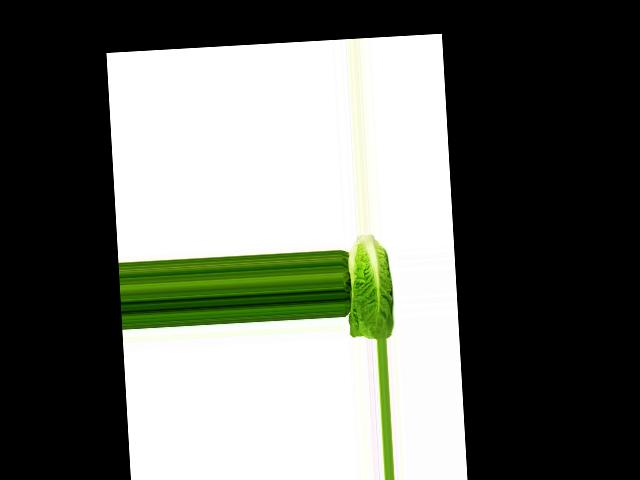lettuce: (346, 233, 402, 341)
